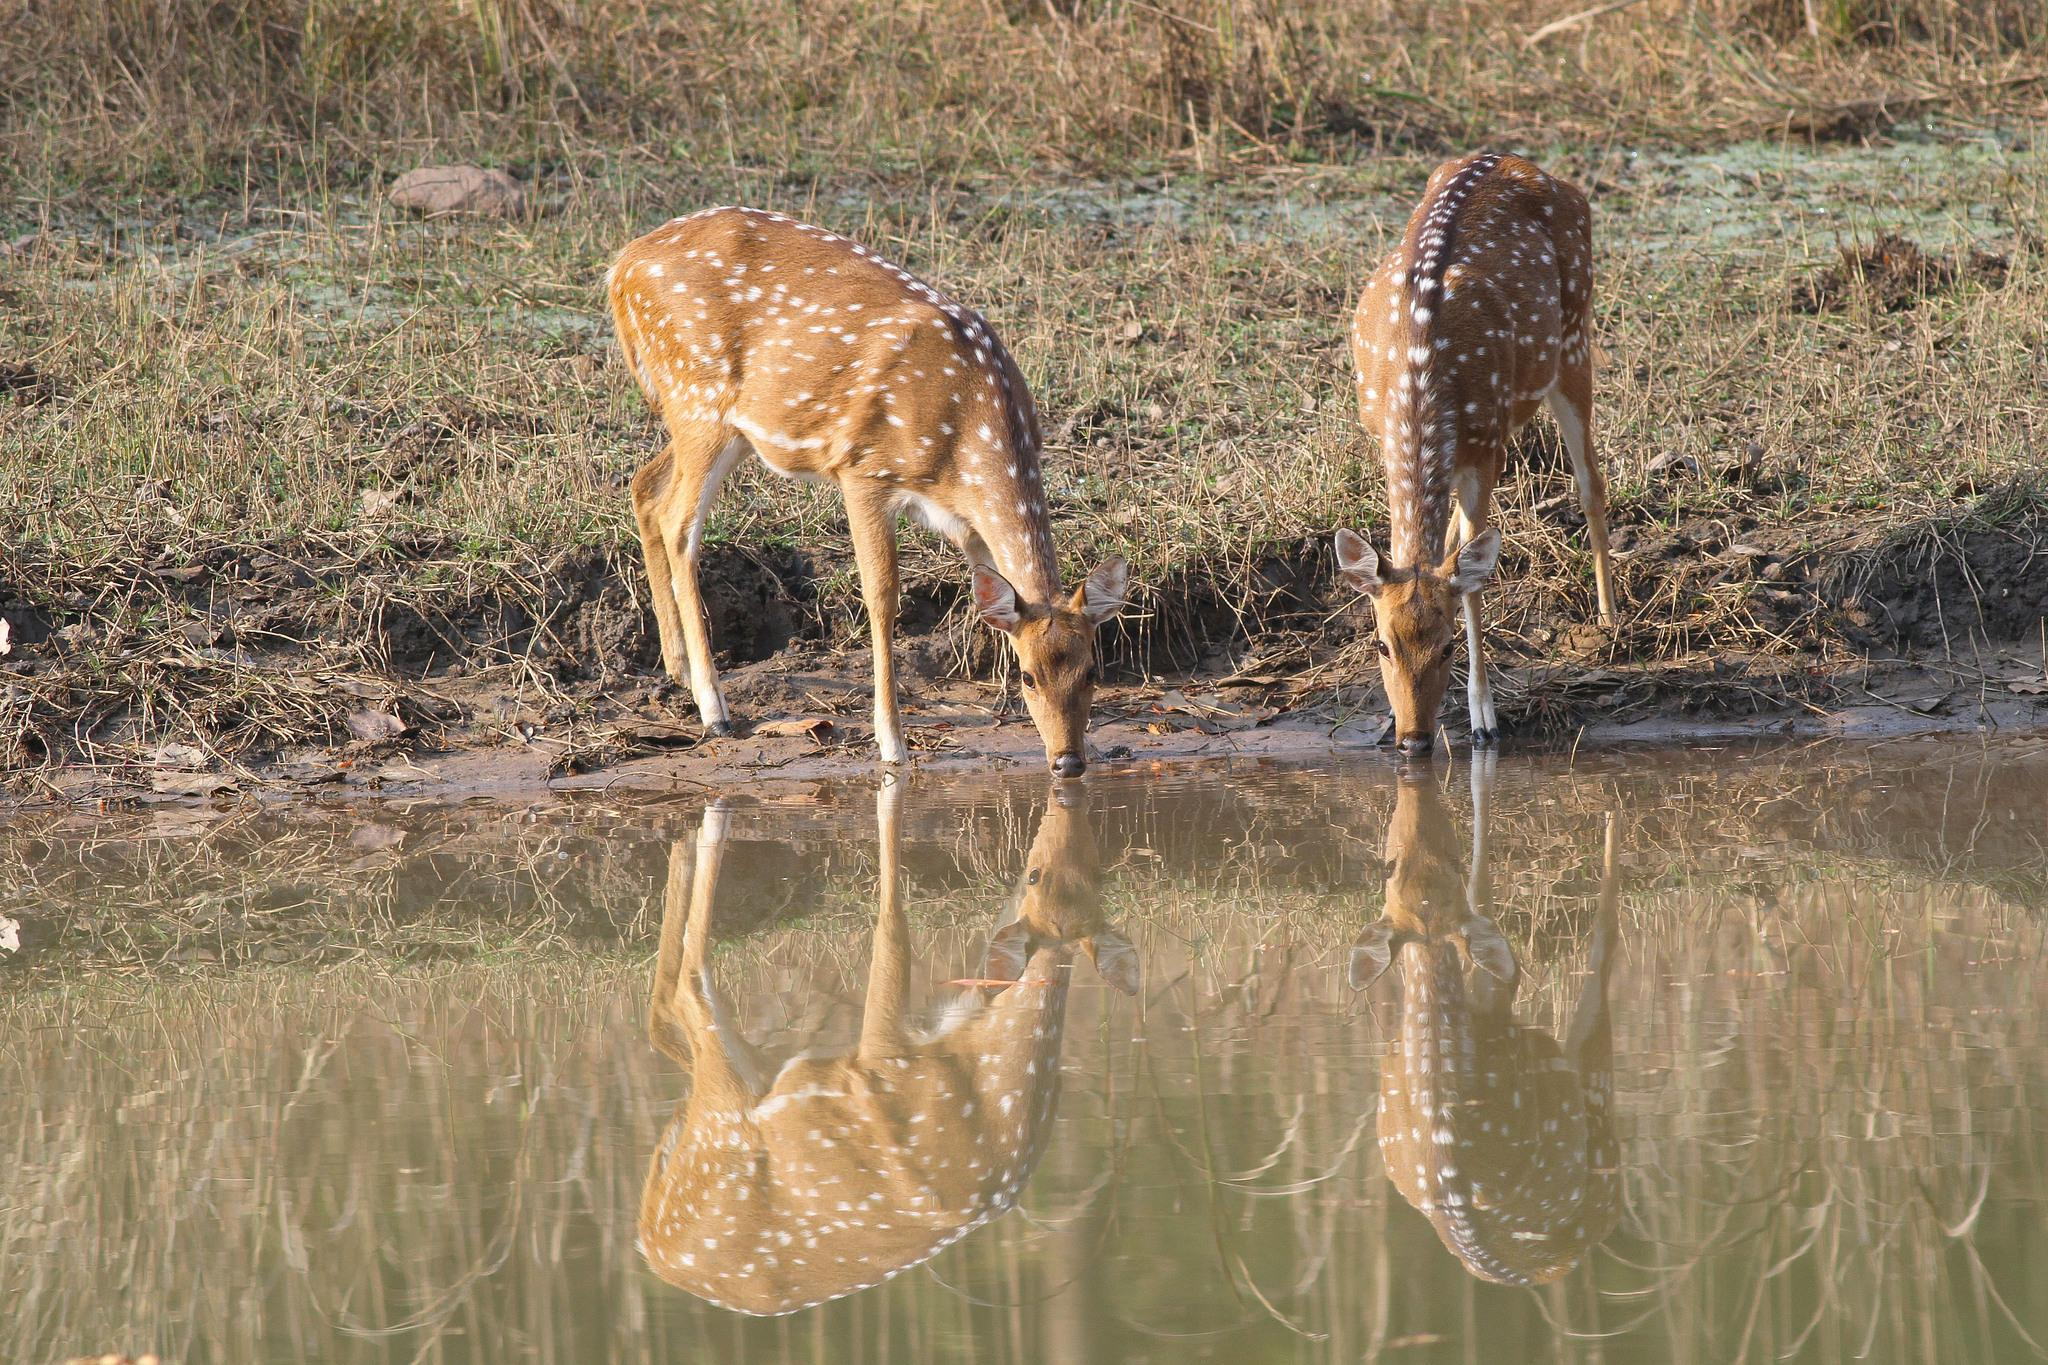Deer: (608, 207, 1128, 772), (1335, 152, 1614, 756)
